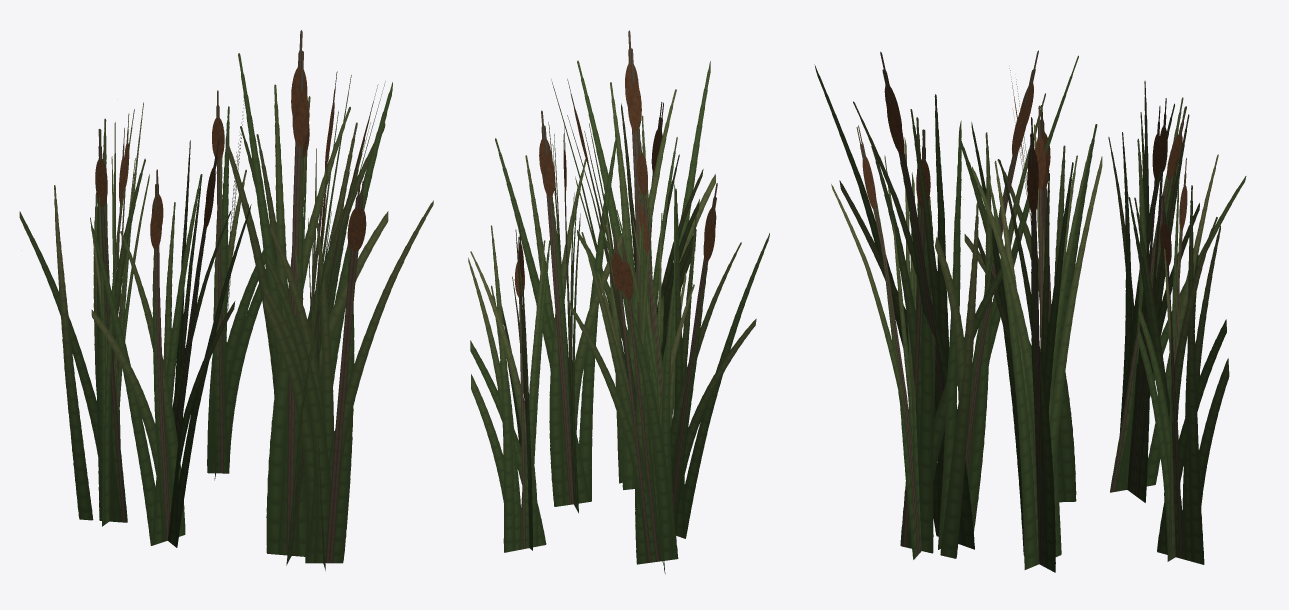
Rendered from orobinec_2.glb.
The picture shows the model from 3 angles, left to right: view 1: azimuth 30°, elevation 25°; view 2: azimuth 150°, elevation 25°; view 3: azimuth 270°, elevation 25°; orthographic projection. The views are drawn at different scales.
Visible parts, largest first — view 1: orobinec_2; view 2: orobinec_2; view 3: orobinec_2.
Boxes of the visible parts, bbox=[...] form: orobinec_2: bbox=[19, 30, 433, 570]; orobinec_2: bbox=[468, 30, 769, 574]; orobinec_2: bbox=[814, 50, 1246, 572].
Size of the model in its own units: 1.25 by 1.95 by 1.55.
Materials: 1 (1 with a texture image).
